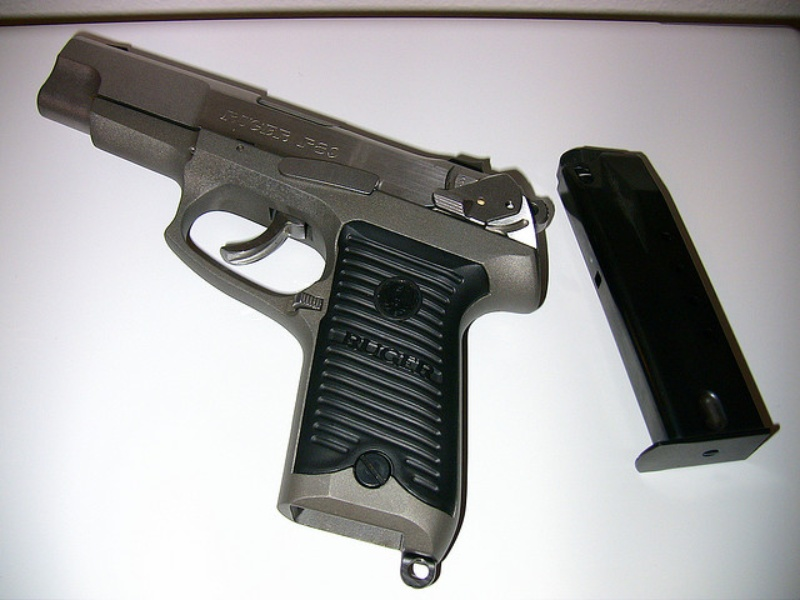gun: (36, 13, 555, 563)
